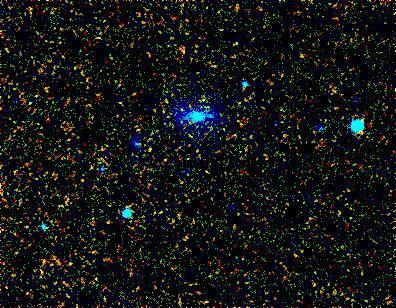star: (196, 100, 226, 130)
